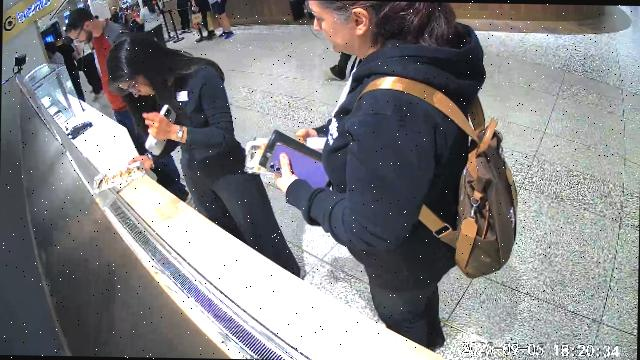sushi-box: (93, 161, 147, 192), (246, 139, 267, 174), (294, 135, 326, 151)
